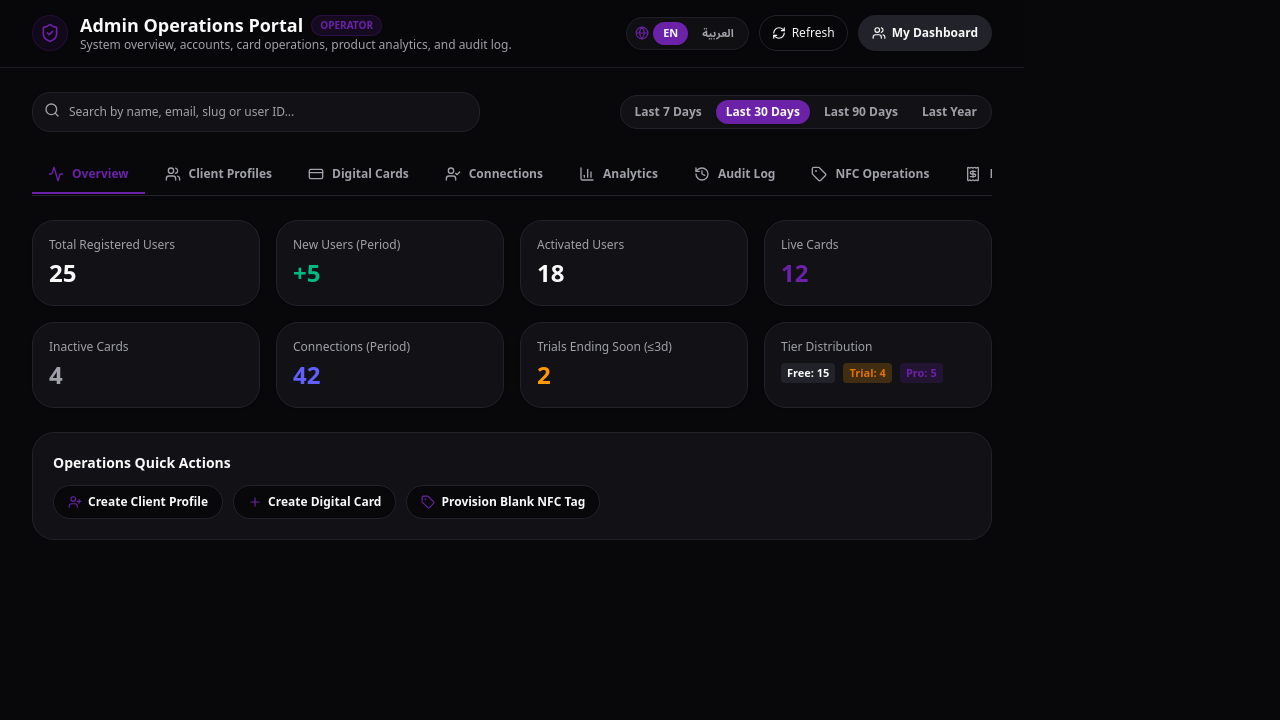
Test: Admin Operations Portal — Real Browser Suite › verifies destructive confirmation dialogs require exact slug/email and audit reason
# Delete Profile Dialog Verification
What coordinates should you click on to do the following:
click the tab "Client Profiles"
I would click on:
 (218, 174)
Its box is x1=148 y1=156 x2=288 y2=194.
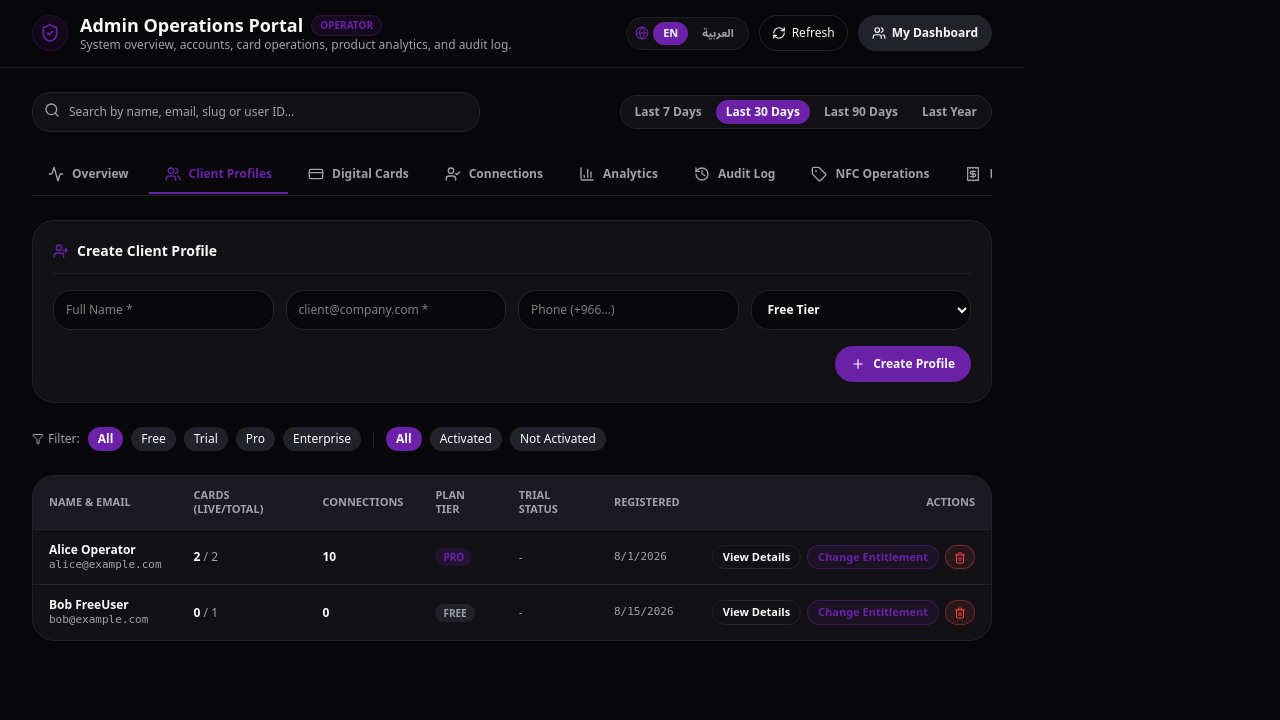
What coordinates should you click on to do the following:
click the button titled "Delete Profile" in the row of "Alice Operator"
I would click on:
 (960, 557)
Its box is x1=945 y1=545 x2=975 y2=570.
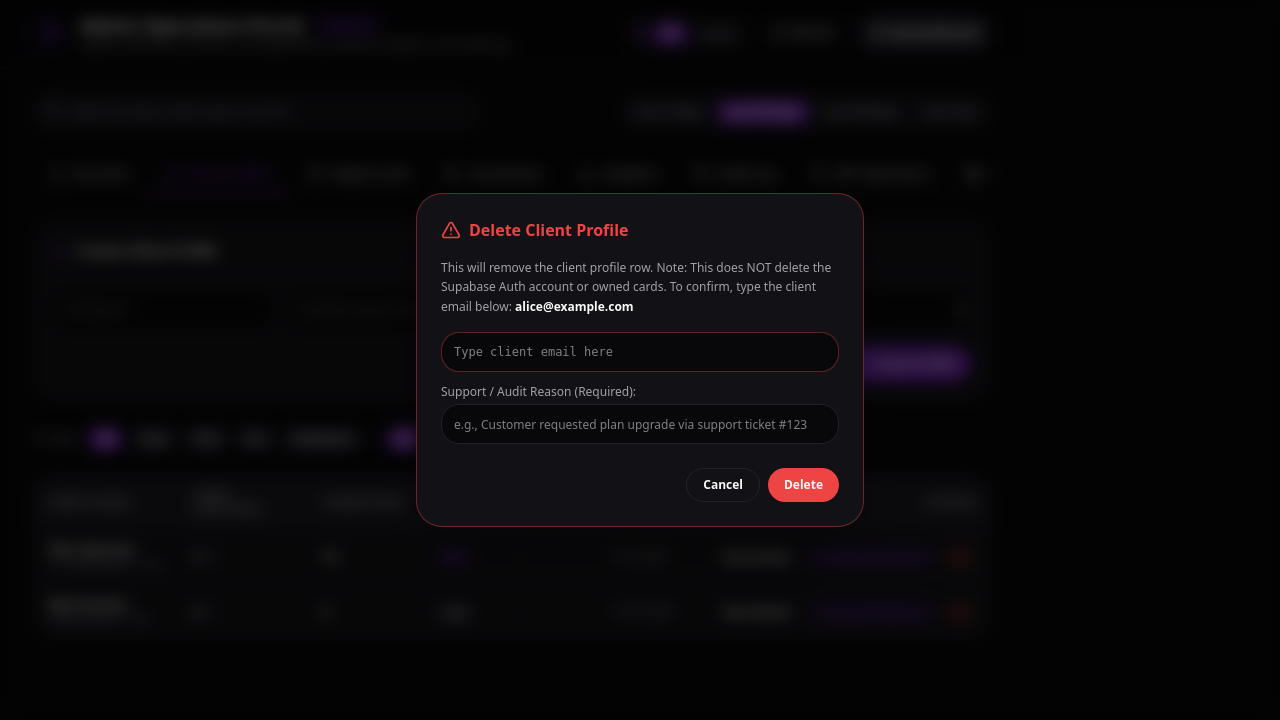
Expected: the dialog is shown
Expected: the dialog shows "Delete Client Profile", x1=469 y1=219 x2=628 y2=241
Expected: the dialog shows "This will remove the client profile row. Note: This does NOT delete the Supabase Auth account or owned cards.", x1=441 y1=259 x2=831 y2=315
What coordinates should you click on to do the following:
click the button "Cancel"
I would click on:
 (723, 485)
Its box is x1=686 y1=468 x2=760 y2=502.
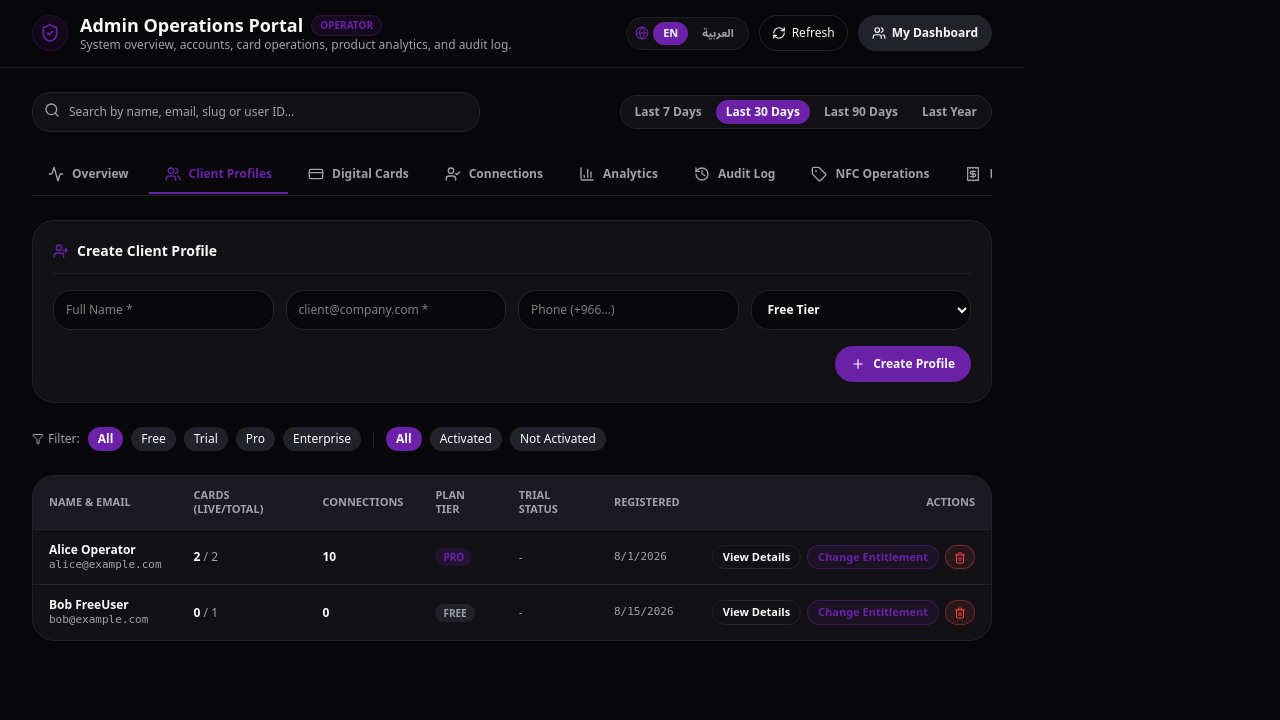
# Delete Card Dialog Verification
What coordinates should you click on to do the following:
click the tab "Digital Cards"
I would click on:
 (358, 174)
Its box is x1=292 y1=156 x2=425 y2=194.
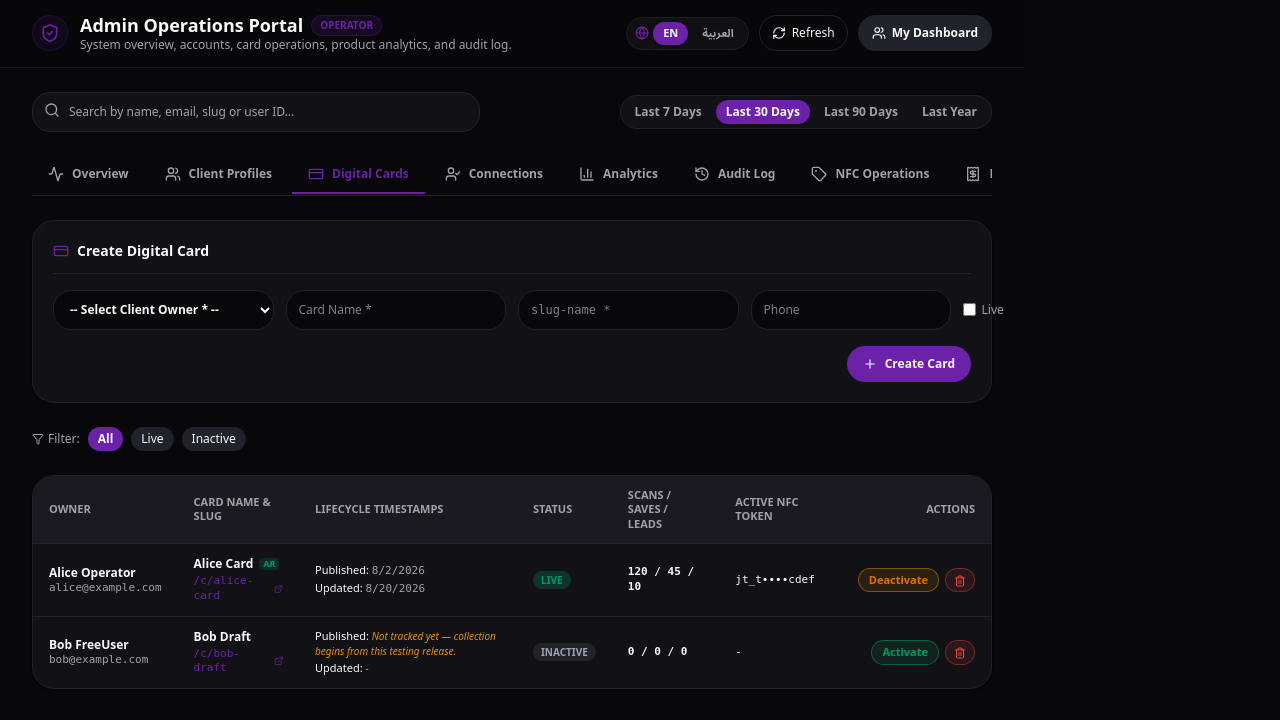
What coordinates should you click on to do the following:
click the button titled "Delete Card" in the row of "Alice Operator"
I would click on:
 (960, 580)
Its box is x1=945 y1=568 x2=975 y2=592.
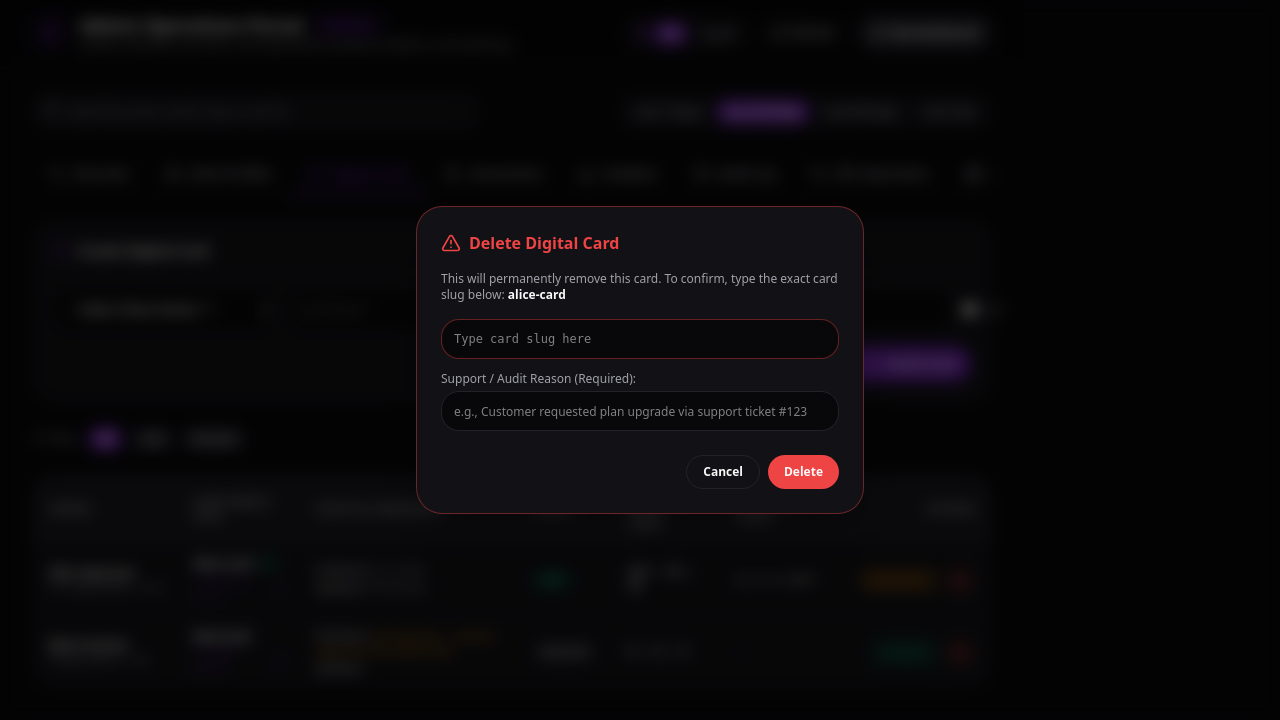
Expected: the dialog is shown
Expected: the dialog shows "Delete Digital Card", x1=469 y1=232 x2=620 y2=254
Expected: the dialog shows "Support / Audit Reason (Required)", x1=441 y1=370 x2=633 y2=387
